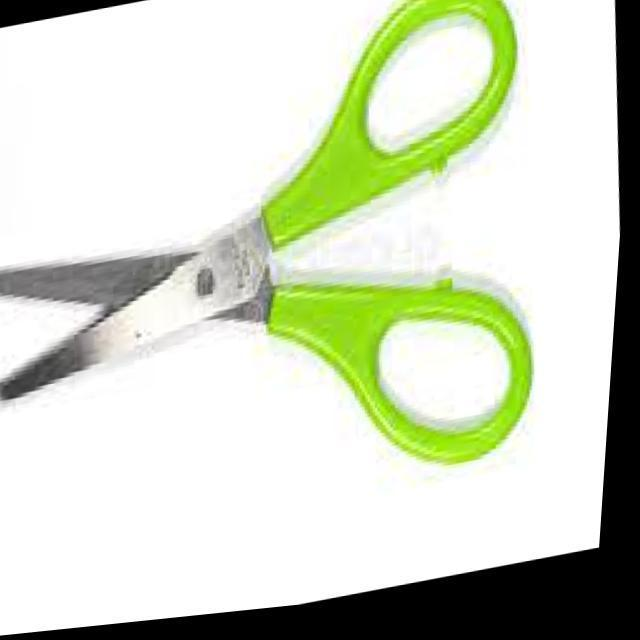tesoura: (0, 0, 531, 461)
